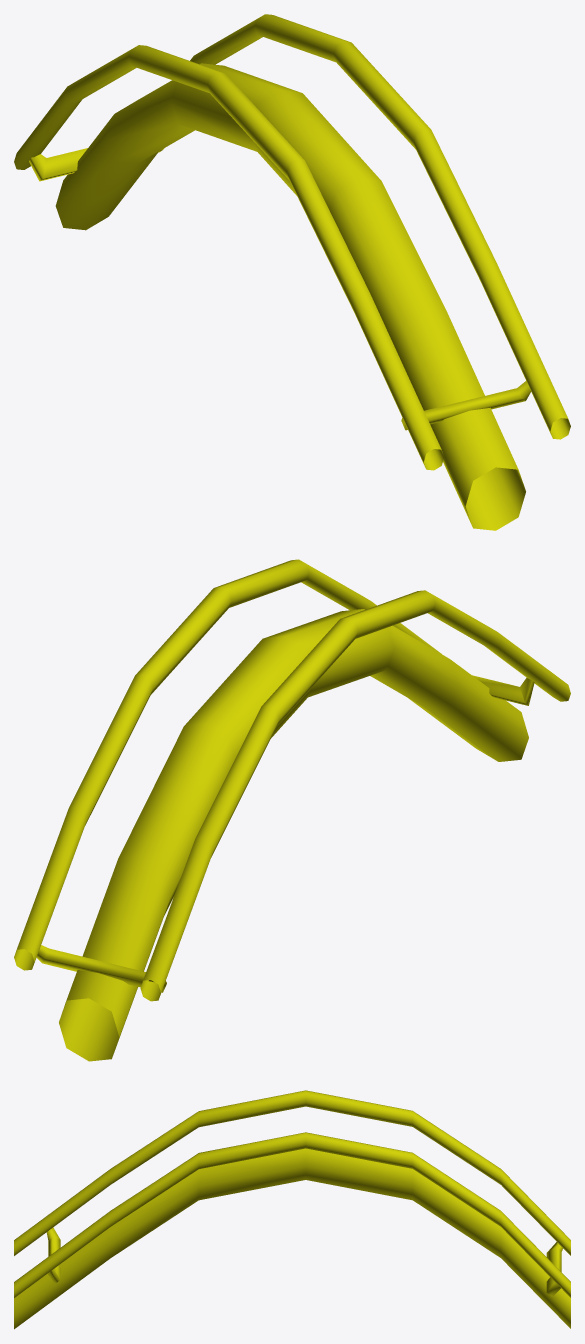
The picture shows the model from 3 angles, top to bottom: view 1: azimuth 30°, elevation 25°; view 2: azimuth 150°, elevation 25°; view 3: azimuth 270°, elevation 25°; orthographic projection. The views are drawn at different scales.
Parts seen in each view (by area): view 1: Mesh; view 2: Mesh; view 3: Mesh.
Boxes of the visible parts, x1,y1,x2,y2 form: Mesh: (14, 14, 570, 530); Mesh: (14, 559, 570, 1061); Mesh: (14, 1090, 570, 1329).
Bounding box in the file's own units: 66.86 × 136 × 318.
